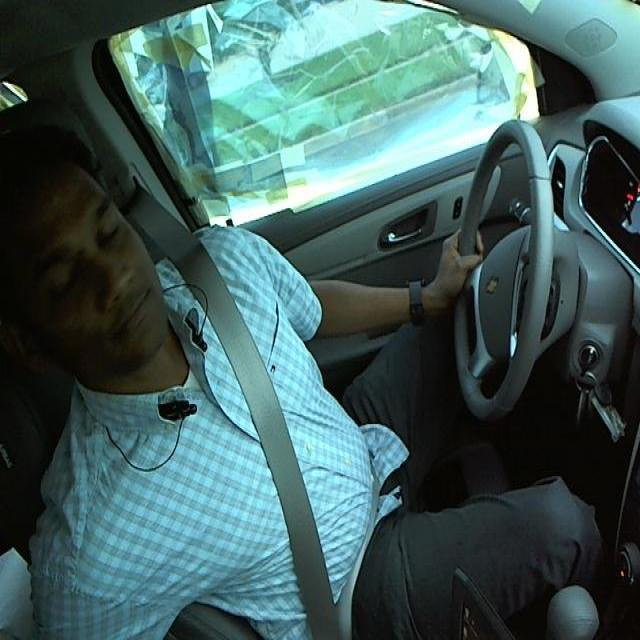seatbelt: (141, 236, 360, 639)
